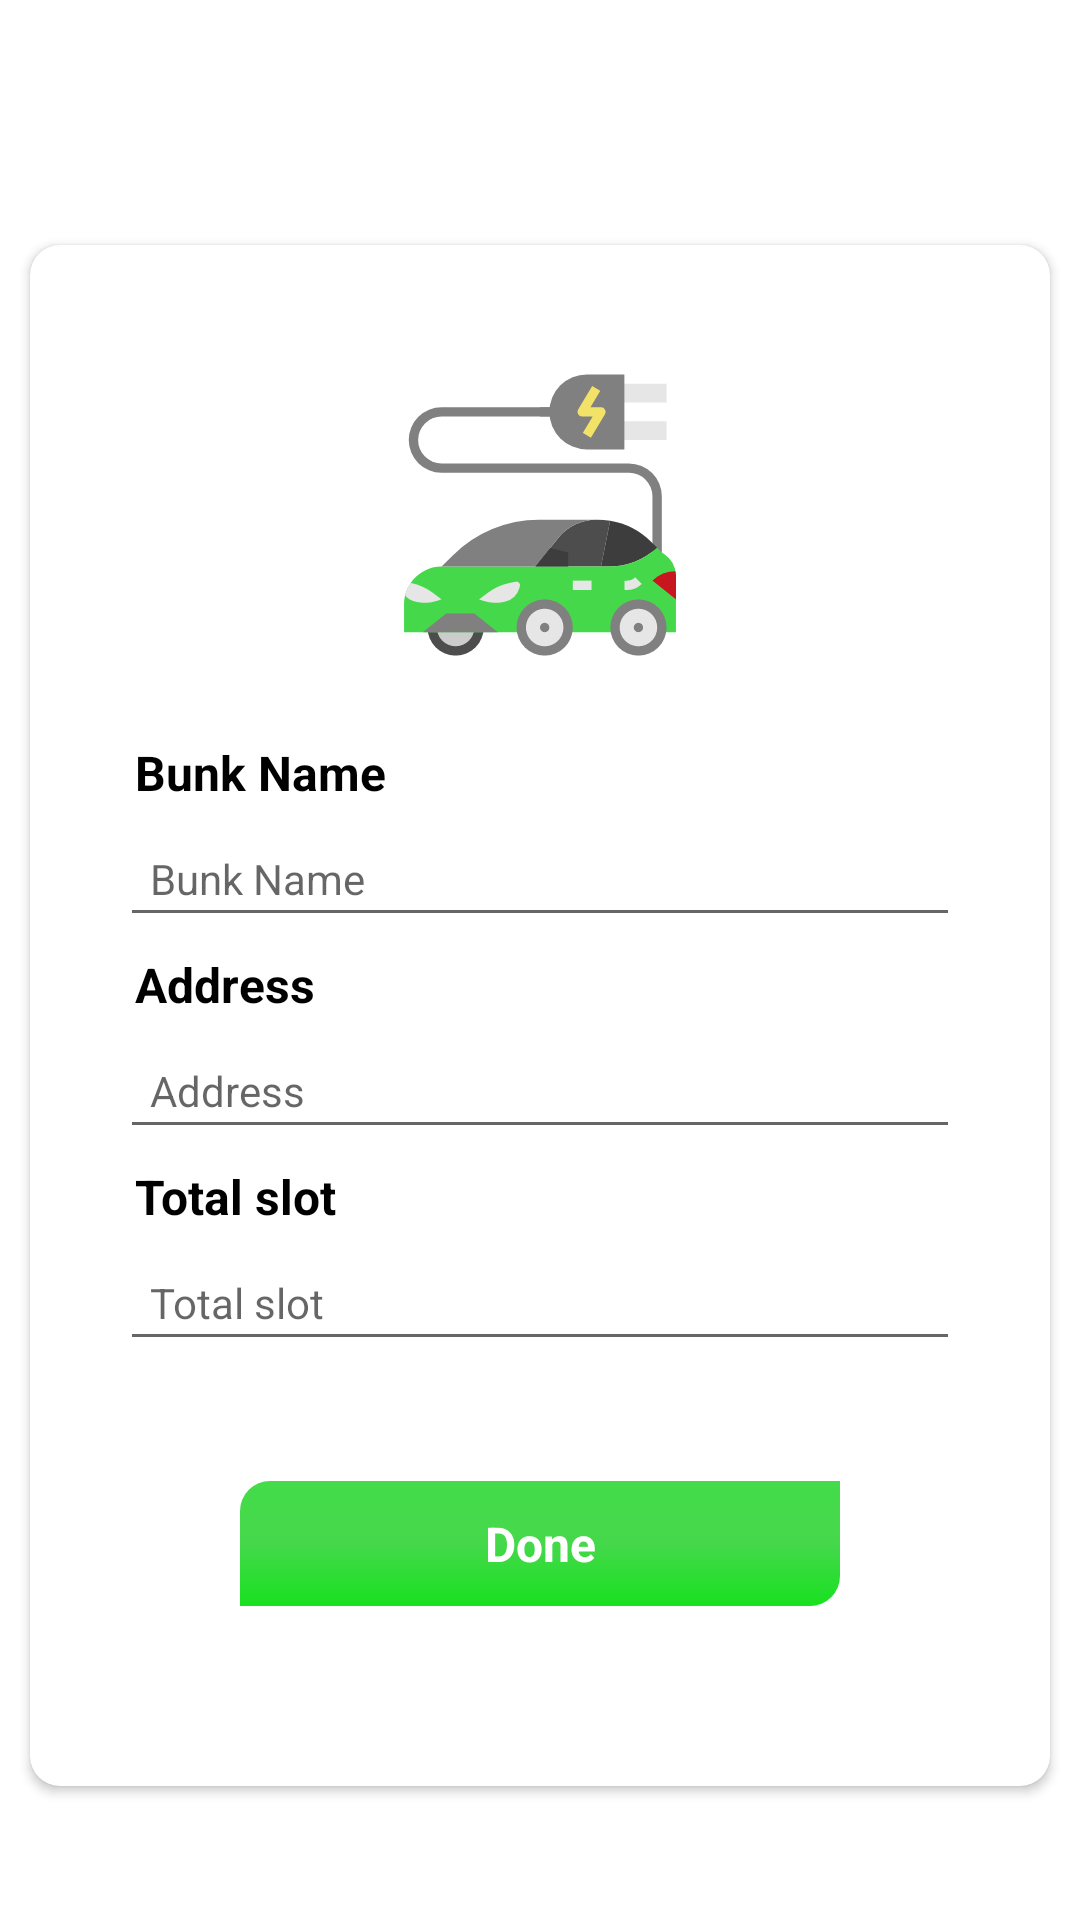

Screen size 1080*1920. Icon name, then its center in pixels as (x=x, y=y):
electric car: (x=540, y=515)
